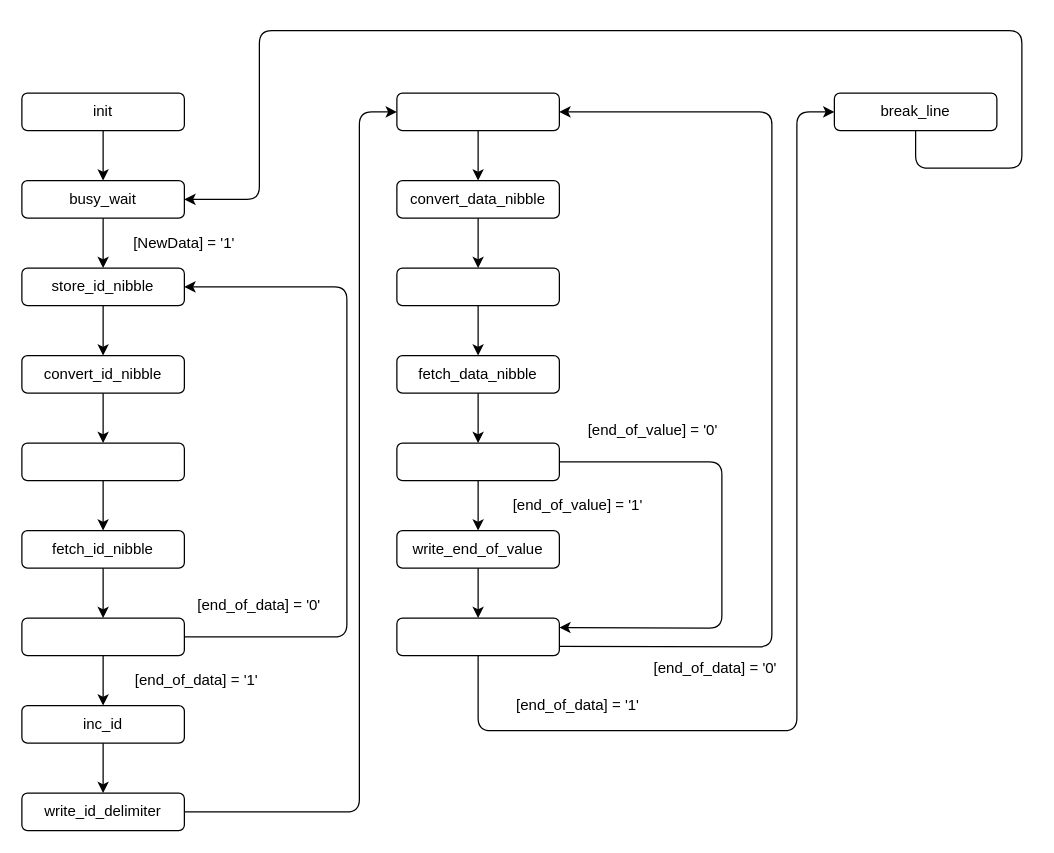
The diagram is 1054 pixels wide and 853 high, and some of its shapes have lost their labels. The box of each missing label's shape, as (x1, y1, x2, y2) in pixels:
check_data_nibble: (396, 617, 559, 656)
check_end_of_value: (396, 442, 559, 481)
check_id_nibble: (21, 617, 184, 656)
store_data_nibble: (396, 92, 559, 131)
write_data_char: (396, 267, 559, 306)
write_id_char: (21, 442, 184, 481)
